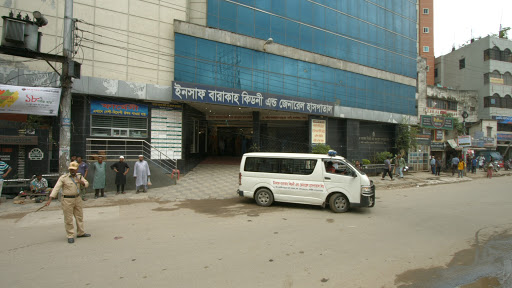ambulance: (237, 149, 378, 212)
